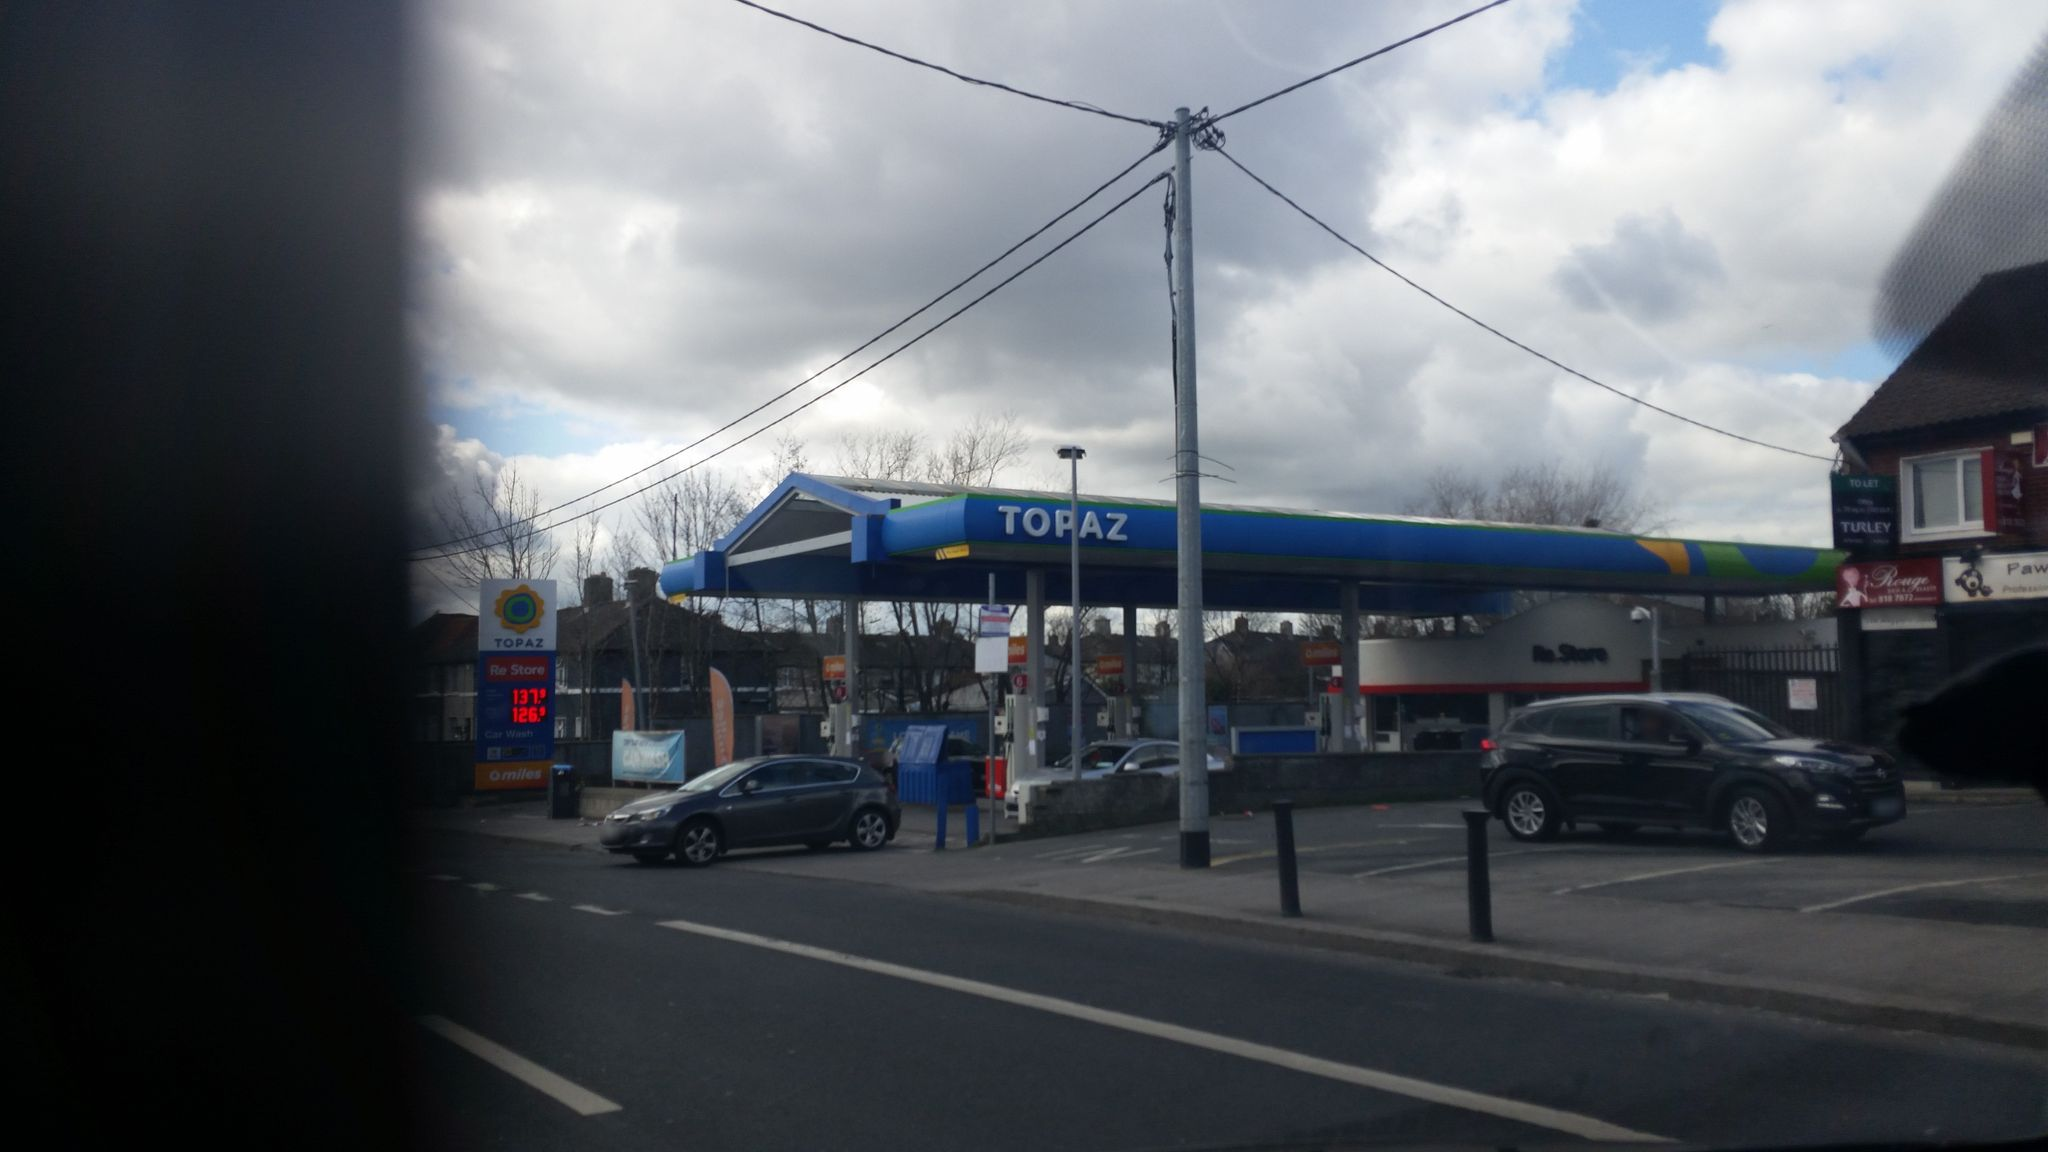property sign: (1817, 461, 1914, 564)
vinyl banner: (601, 717, 686, 788)
